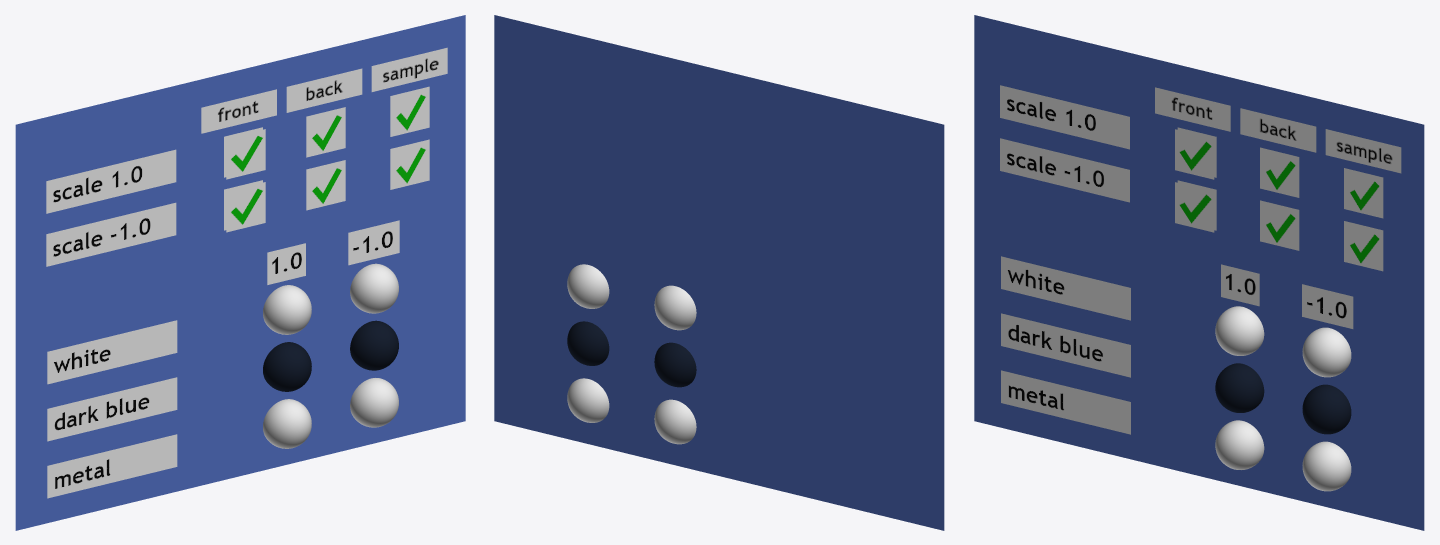
File: NegativeScaleTestLOD.glb
The picture shows the model from 3 angles, left to right: view 1: azimuth 30°, elevation 25°; view 2: azimuth 150°, elevation 25°; view 3: azimuth 330°, elevation 25°; orthographic projection.
Visible parts, largest first — view 1: BackgroundMesh, Labels, PositiveScaleTest, NegativeScaleBack, DarkMinus1, NotShinyMinus1, ShinyMinus1, NotShiny1, Shiny1, Dark1, NegativeScaleFront; view 2: BackgroundMesh, Shiny1, Dark1, NotShiny1, ShinyMinus1, DarkMinus1, NotShinyMinus1; view 3: BackgroundMesh, Labels, PositiveScaleTest, NegativeScaleBack, NotShinyMinus1, Shiny1, ShinyMinus1, DarkMinus1, NotShiny1, Dark1, NegativeScaleFront.
Part boxes in pixels (box(x1,y1,x2,y2)): BackgroundMesh: box(15, 15, 465, 530); Labels: box(46, 47, 447, 498); PositiveScaleTest: box(224, 86, 429, 179); NegativeScaleBack: box(224, 139, 429, 230); DarkMinus1: box(350, 320, 398, 370); NotShinyMinus1: box(350, 263, 398, 313); ShinyMinus1: box(350, 378, 398, 427); NotShiny1: box(263, 285, 311, 334); Shiny1: box(263, 399, 311, 448); Dark1: box(263, 342, 311, 391); NegativeScaleFront: box(226, 182, 265, 232); BackgroundMesh: box(494, 15, 944, 530); Shiny1: box(654, 399, 696, 444); Dark1: box(654, 342, 696, 387); NotShiny1: box(654, 285, 696, 330); ShinyMinus1: box(567, 378, 609, 422); DarkMinus1: box(567, 321, 609, 365); NotShinyMinus1: box(567, 264, 609, 308); BackgroundMesh: box(974, 15, 1424, 530); Labels: box(1000, 85, 1401, 434); PositiveScaleTest: box(1175, 127, 1383, 218); NegativeScaleBack: box(1177, 180, 1383, 271); NotShinyMinus1: box(1302, 327, 1351, 377); Shiny1: box(1215, 420, 1264, 469); ShinyMinus1: box(1302, 441, 1351, 491); DarkMinus1: box(1302, 384, 1351, 434); NotShiny1: box(1215, 306, 1264, 355); Dark1: box(1215, 363, 1264, 412); NegativeScaleFront: box(1175, 182, 1214, 232).
Size of the model in its own units: 10.32 by 8.91 by 1.
Materials: 6 (2 with a texture image).
